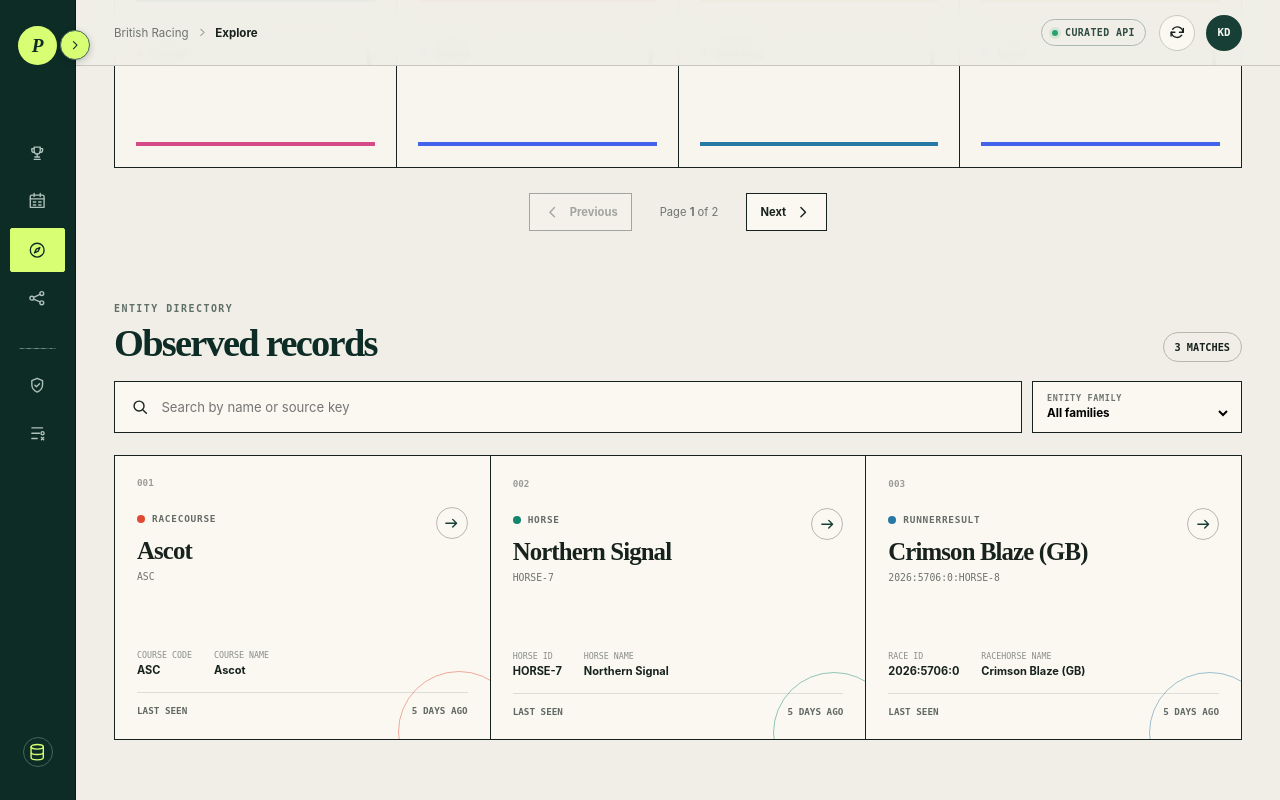
curated data workspace › opens source provenance and lineage for a curated record
(page scrolled)
Expected: the heading "Observed records" is shown, left=114, top=324, right=377, bottom=362
Click the button with test id "entity-card" that starts with "Racecourse".
click(184, 519)  # box left=115, top=456, right=491, bottom=740
(page scrolled)
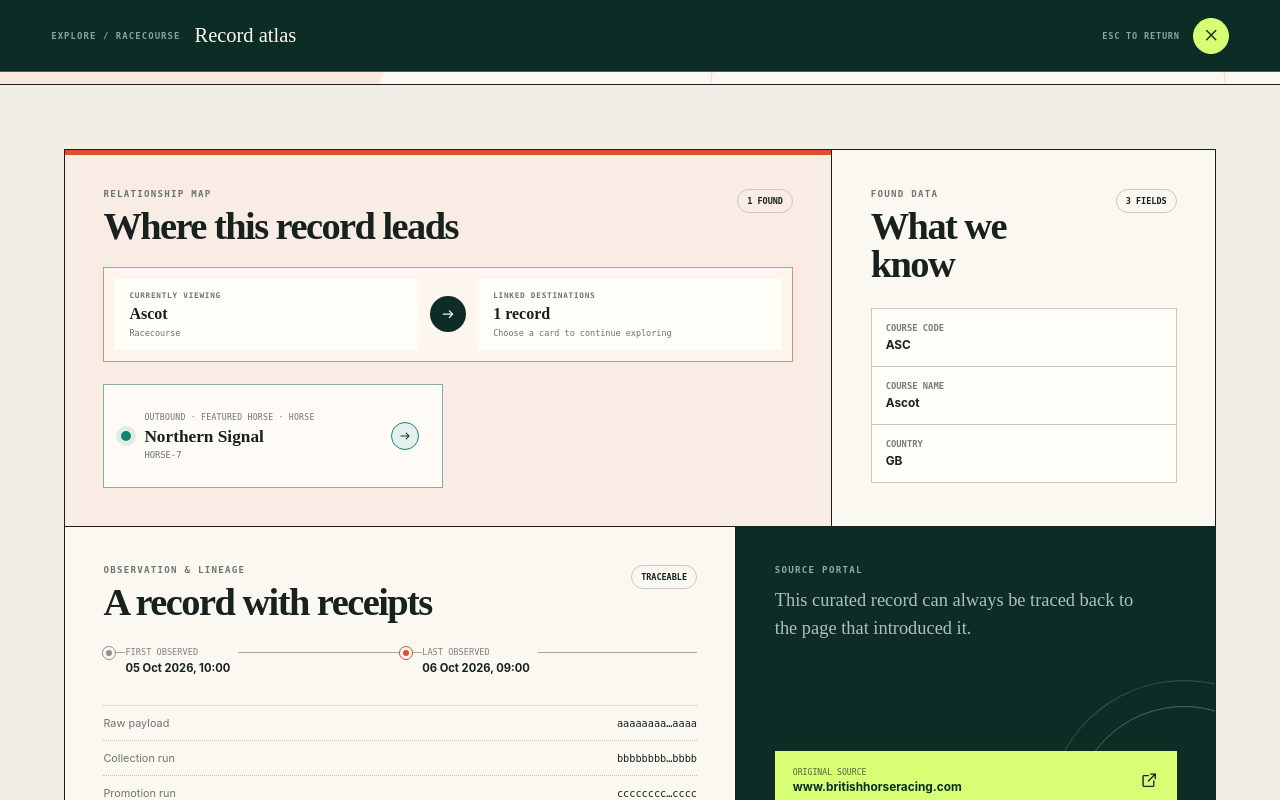
Now the text "Record atlas" is shown, box left=194, top=24, right=296, bottom=47
Now the text "Observation & lineage" is shown, box left=103, top=565, right=245, bottom=575
Now the text "Raw payload" is shown, box left=103, top=716, right=169, bottom=730
Click the button "outbound · featured horse · Horse Northern Signal HORSE-7".
click(165, 417)  # box left=103, top=384, right=443, bottom=488
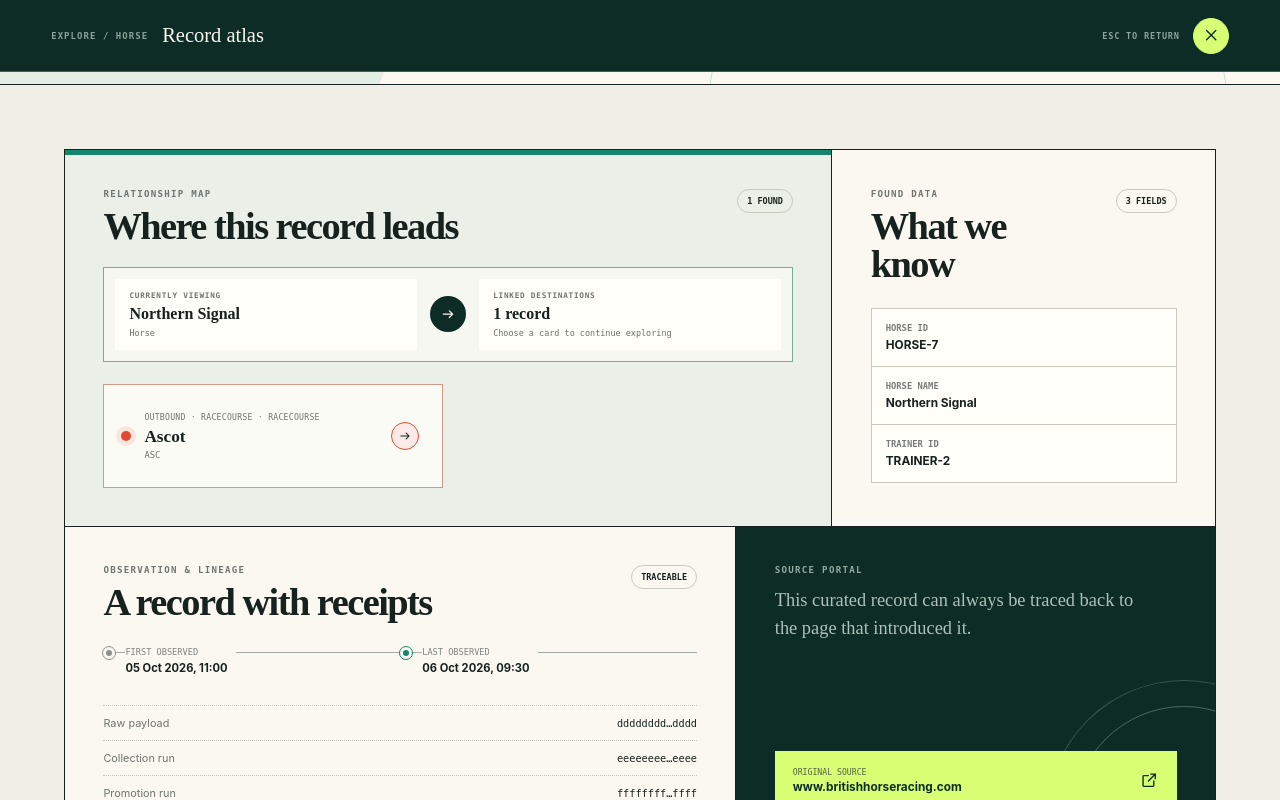
Now the dialog named "Northern Signal details" is shown
